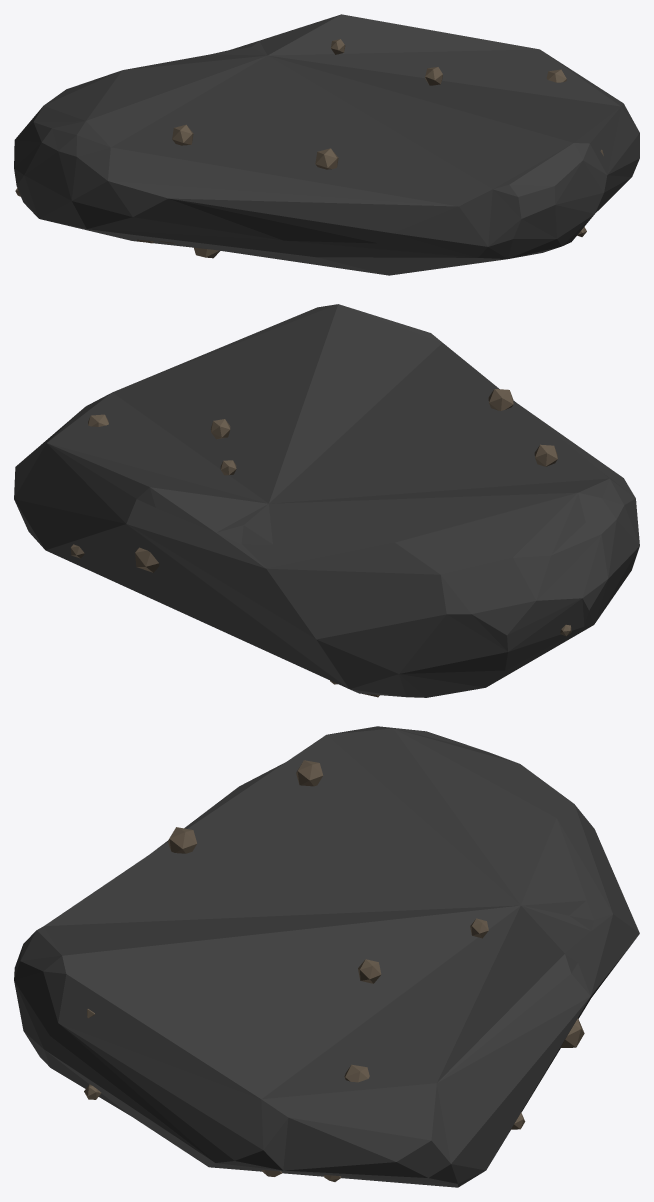
File: Lowpoly_IronRock02.fbx
3 views of the same model, one above another, from view 1: azimuth 30°, elevation 25°; view 2: azimuth 150°, elevation 25°; view 3: azimuth 270°, elevation 25° (orthographic). The views are drawn at different scales.
Visible parts, largest first — view 1: IronRock02; view 2: IronRock02; view 3: IronRock02.
Part boxes in pixels (x1=…): IronRock02: x1=14, y1=14, x2=639, y2=275; IronRock02: x1=14, y1=304, x2=639, y2=697; IronRock02: x1=14, y1=726, x2=639, y2=1187.
Size of the model in its own units: 1036 by 368 by 816.
